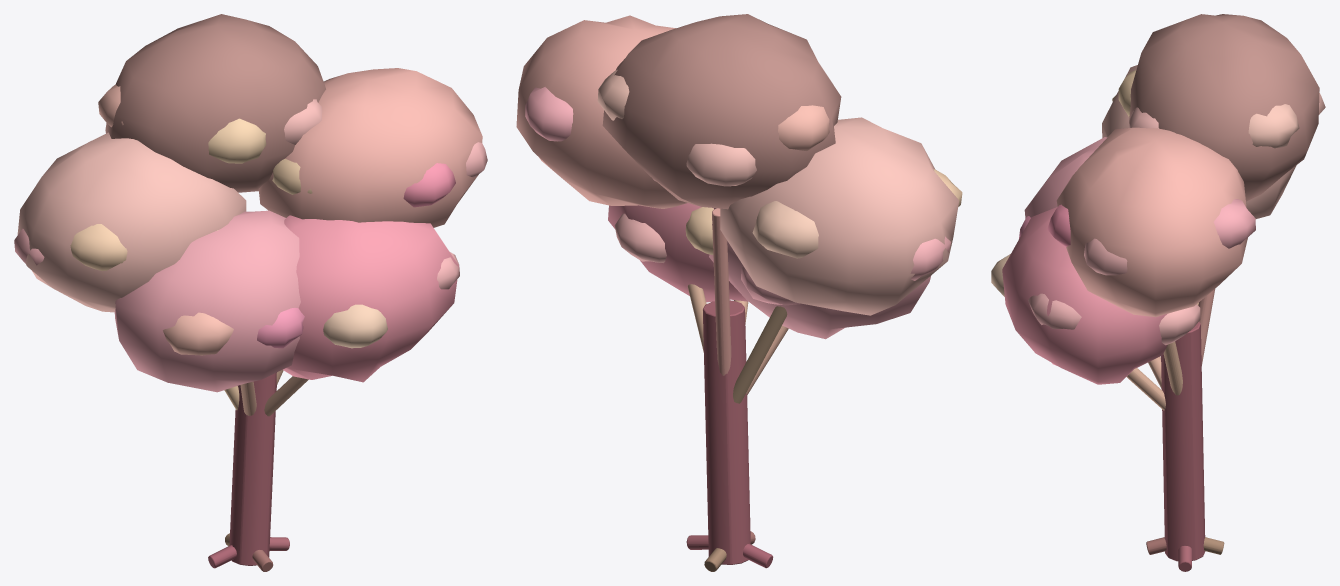
File: WC_RIVER_Tree_Small_A.glb
The picture shows the model from 3 angles, left to right: view 1: azimuth 30°, elevation 25°; view 2: azimuth 150°, elevation 25°; view 3: azimuth 270°, elevation 25°; orthographic projection. The views are drawn at different scales.
Parts seen in each view (by area): view 1: WC_RIVER_Tree_Small_A_RenderMesh; view 2: WC_RIVER_Tree_Small_A_RenderMesh; view 3: WC_RIVER_Tree_Small_A_RenderMesh.
Part boxes in pixels (left/top/right/bottom): WC_RIVER_Tree_Small_A_RenderMesh: left=14, top=14, right=487, bottom=571; WC_RIVER_Tree_Small_A_RenderMesh: left=516, top=14, right=962, bottom=571; WC_RIVER_Tree_Small_A_RenderMesh: left=991, top=14, right=1325, bottom=571.
Bounding box in the file's own units: 1.35 × 1.58 × 0.9119.
